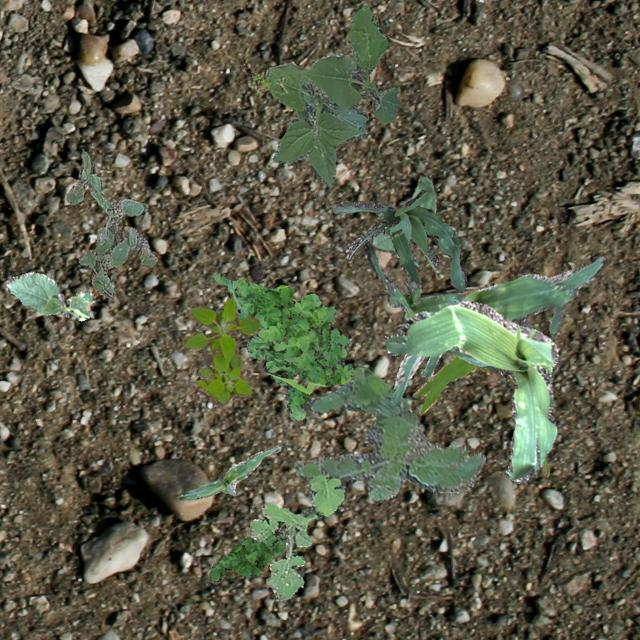crop: (390, 256, 606, 404), (383, 300, 558, 482), (412, 354, 548, 476), (332, 190, 466, 290), (364, 228, 466, 320), (178, 444, 280, 498), (368, 172, 436, 252), (2, 272, 94, 320)
weed: (292, 366, 484, 499), (264, 4, 398, 186), (212, 274, 354, 419), (66, 148, 156, 296), (247, 474, 346, 600), (182, 298, 260, 402), (208, 530, 286, 582), (246, 72, 286, 94)
